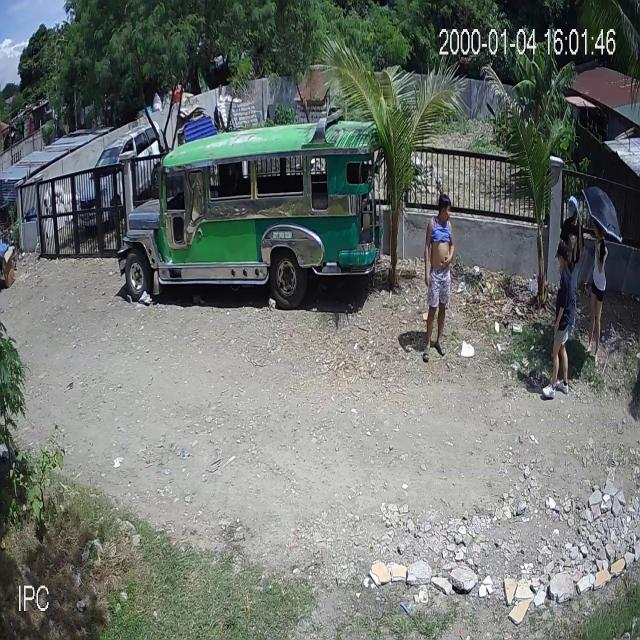standing: (416, 193, 462, 363), (554, 194, 586, 338), (584, 220, 612, 368)
walking: (546, 242, 576, 401)
